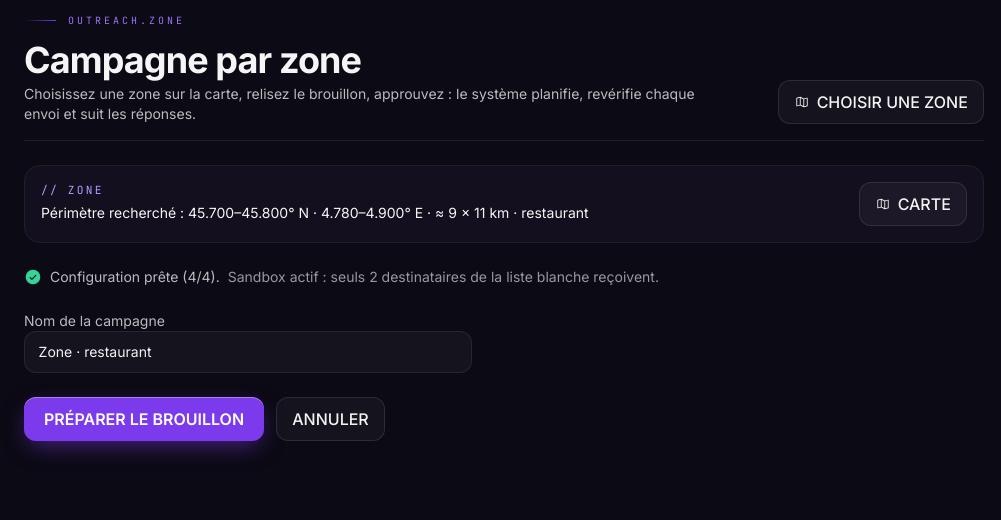
Scenario: a zone arrives from the map › shows the server's sentence when the zone is refused
Click the button "PRÉPARER LE BROUILLON" at point(144, 419), box [24, 397, 264, 441]
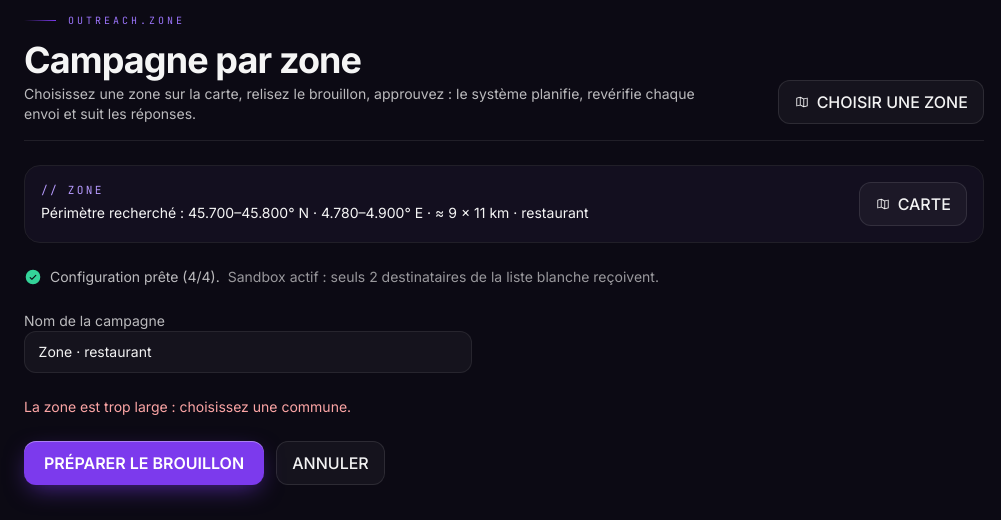
Now the message "La zone est trop large : choisissez une commune." is shown, box [24, 398, 351, 415]
